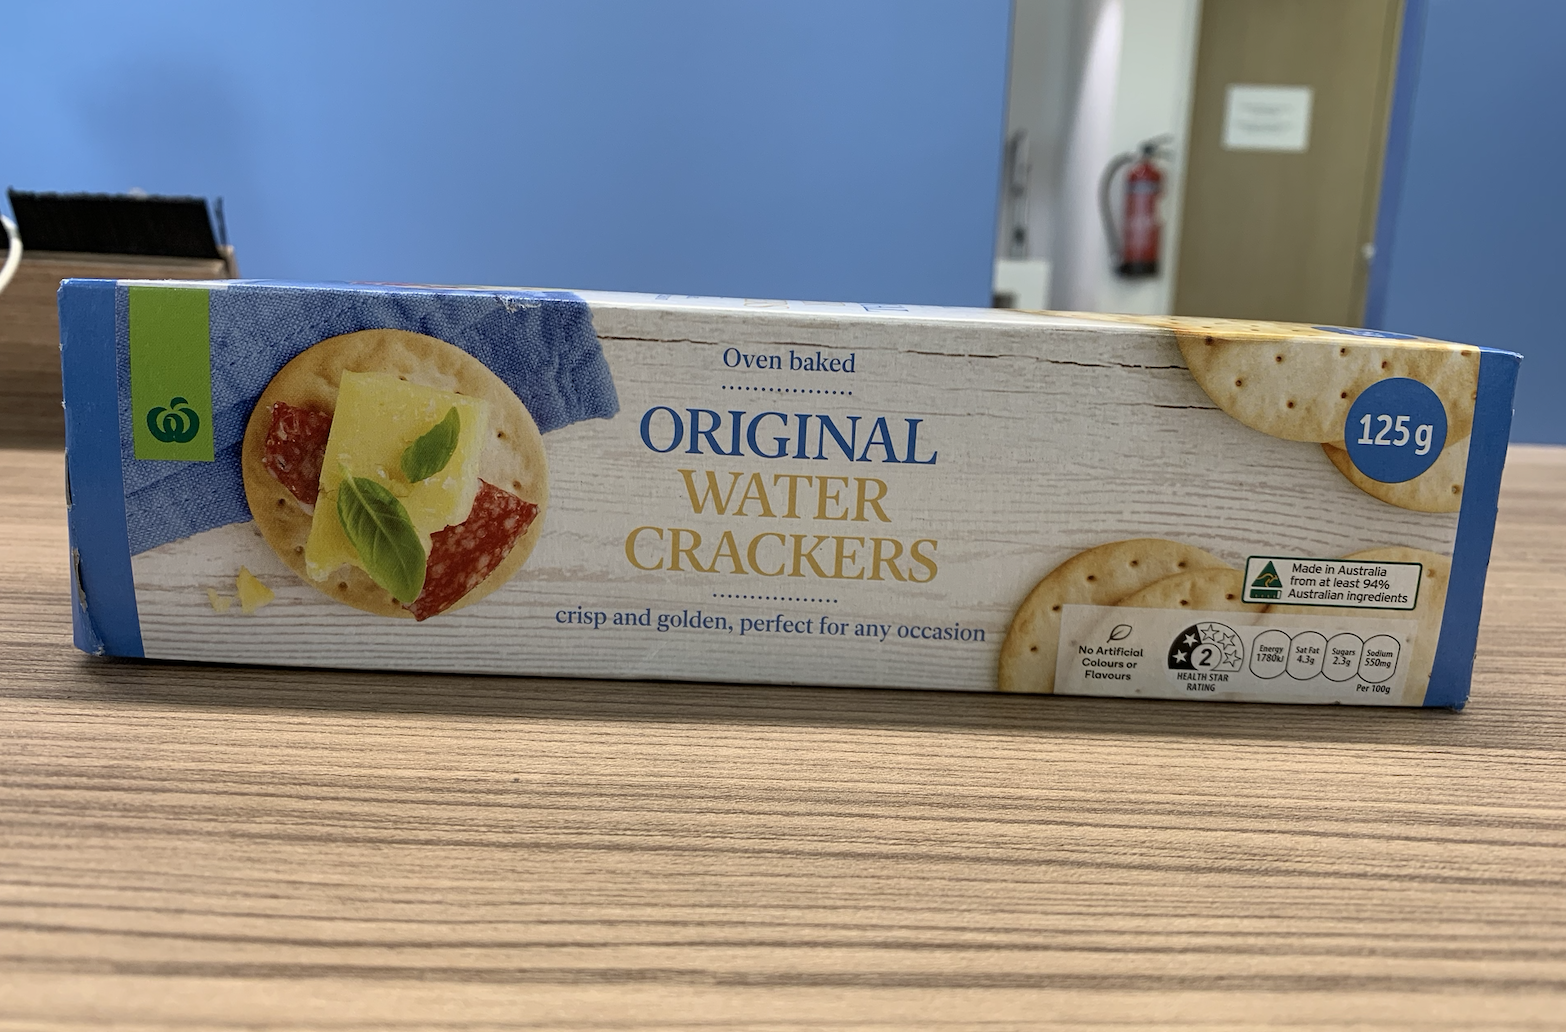crackers_100g-199g: (129, 331, 1455, 701)
